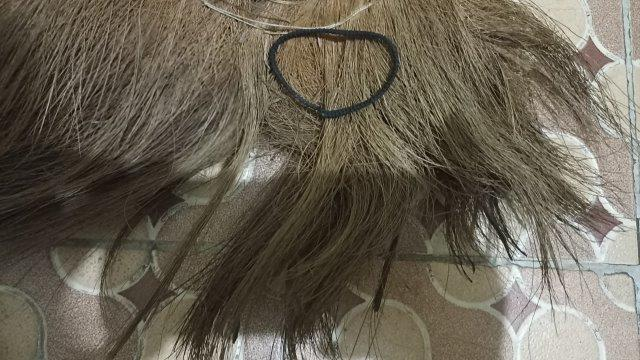karet: (269, 29, 398, 118)
